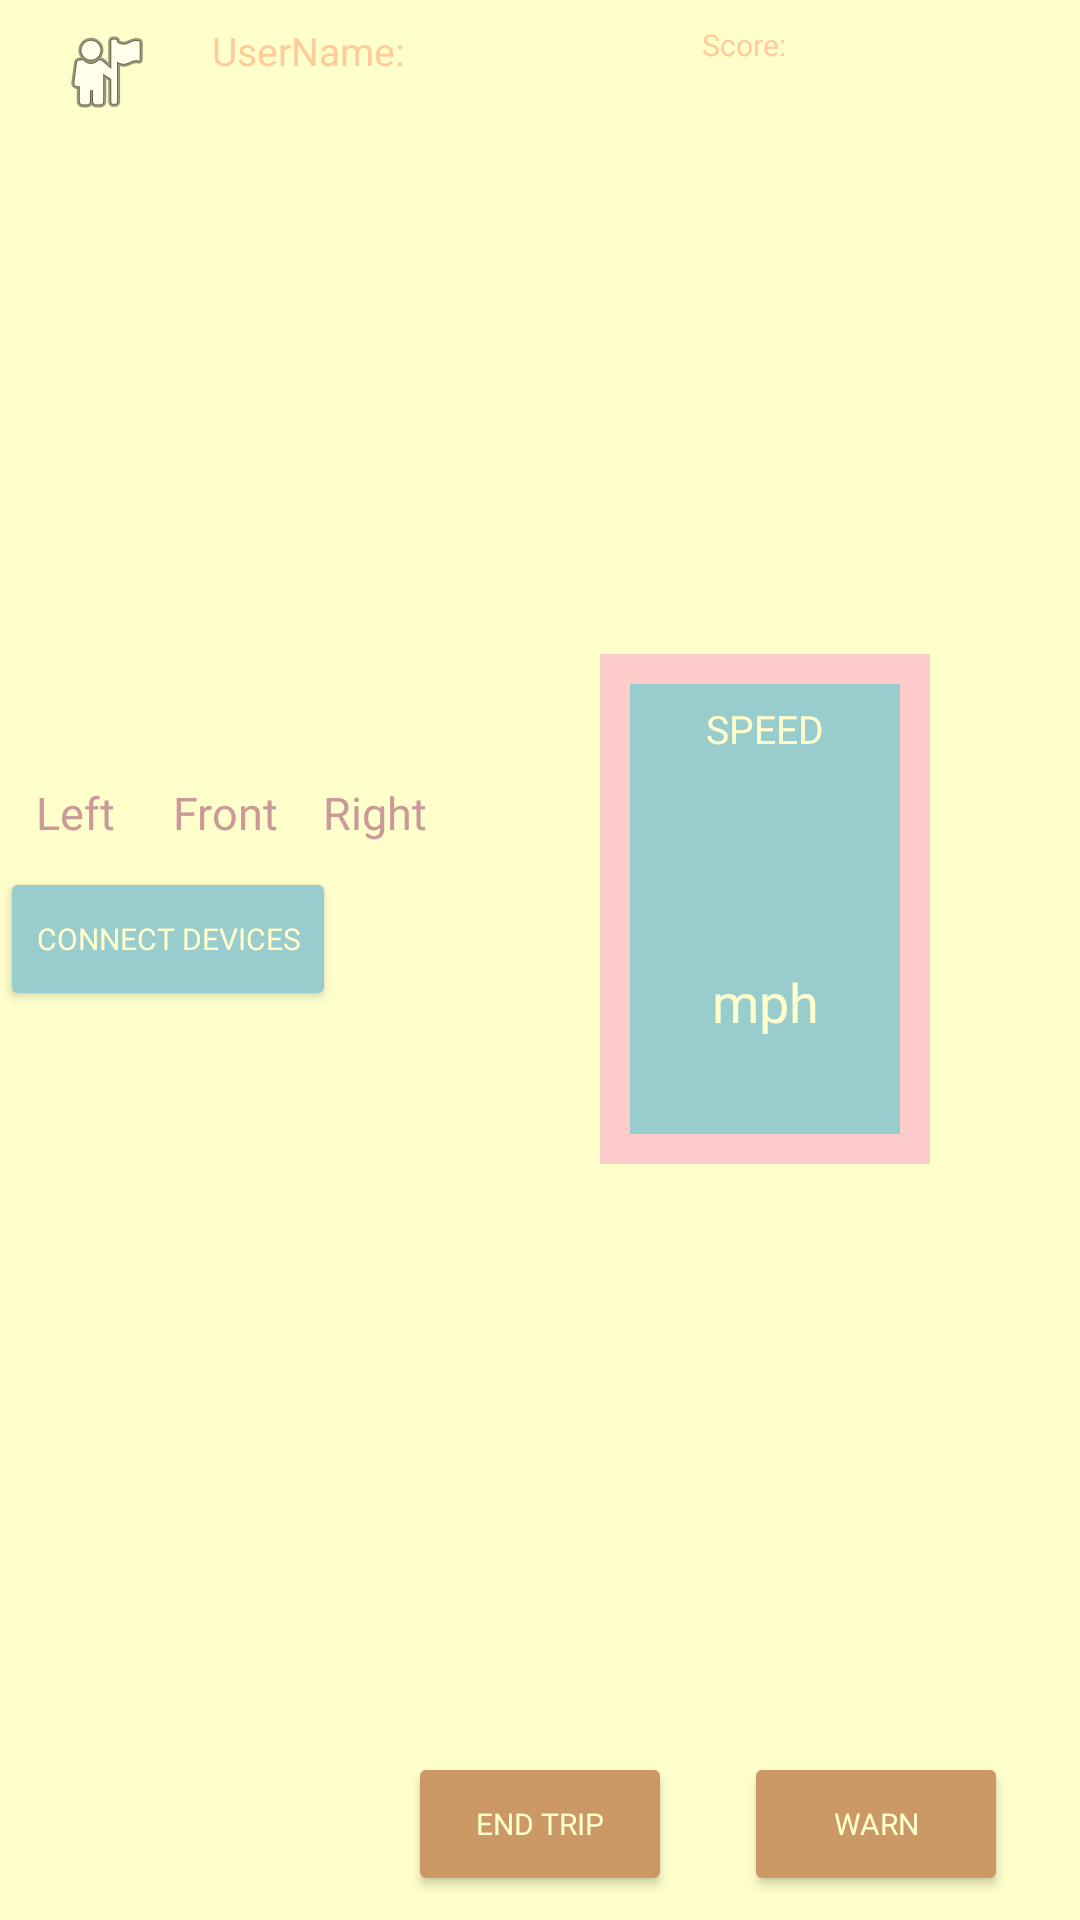

Locate icon controls on the screen. Image size 1080 × 1920, boxes as (x1, y1, x2, y2).
myplaces: (71, 36, 143, 108)
